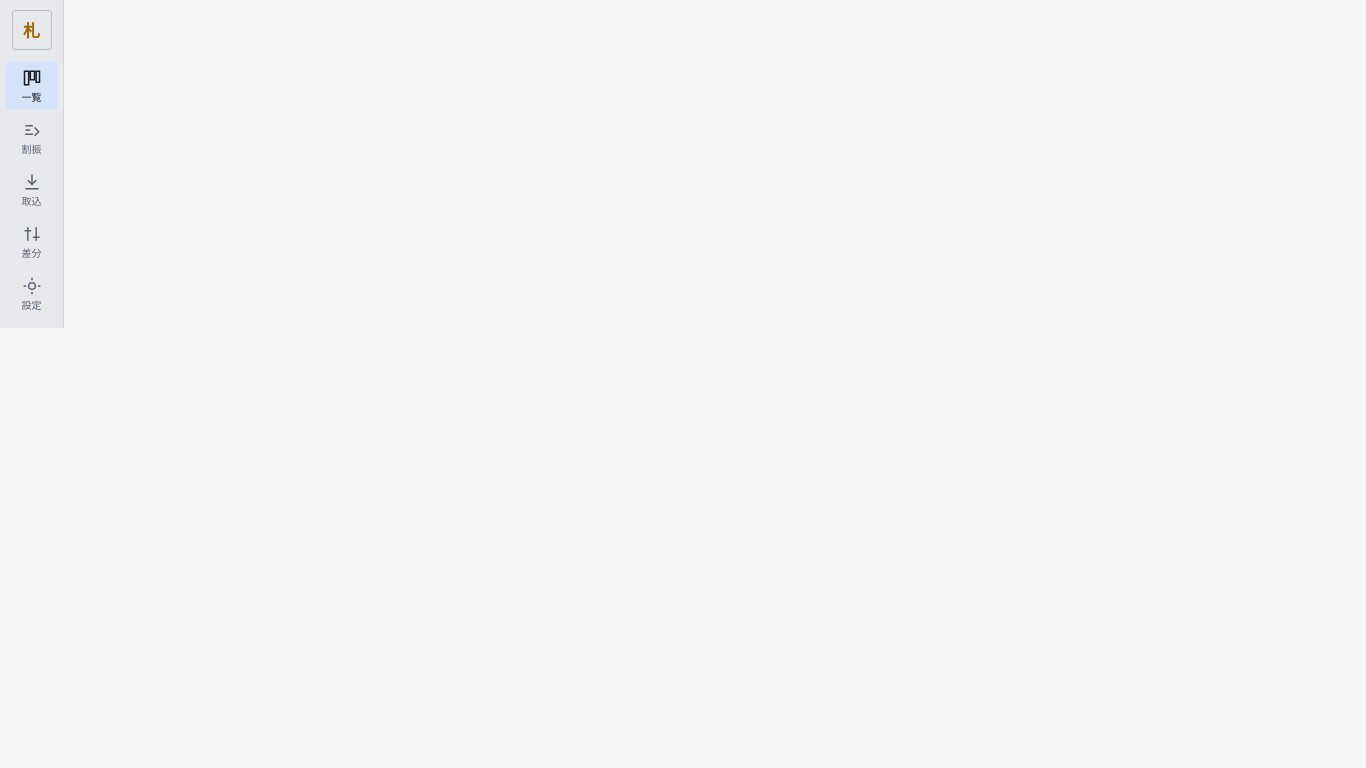
Test: 左メニュー（SideNav） › 設定 › 「設定」を押すと設定のウィンドウが開く
Click the button "設定".
click(32, 294)  # box [6,270,58,318]
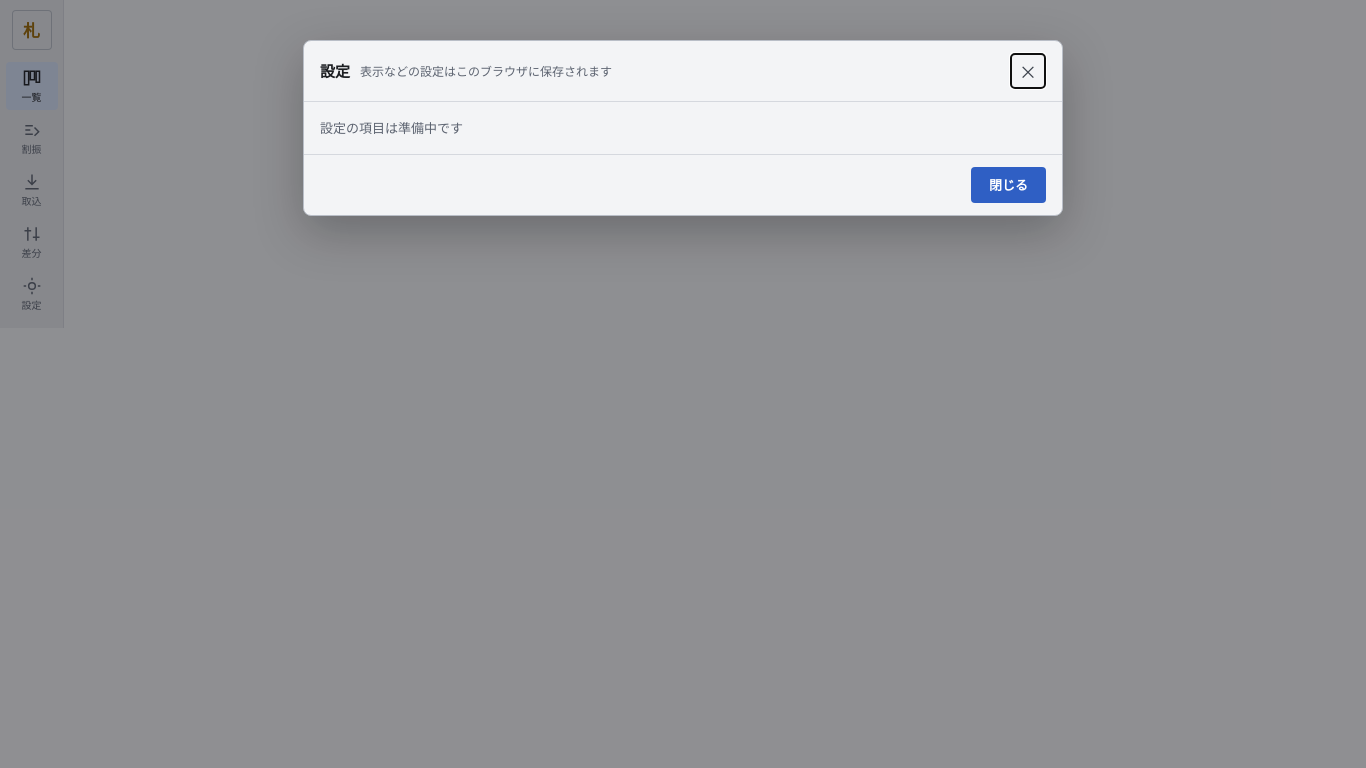
Expected: the dialog "設定" is shown, [303,40,1063,216]
